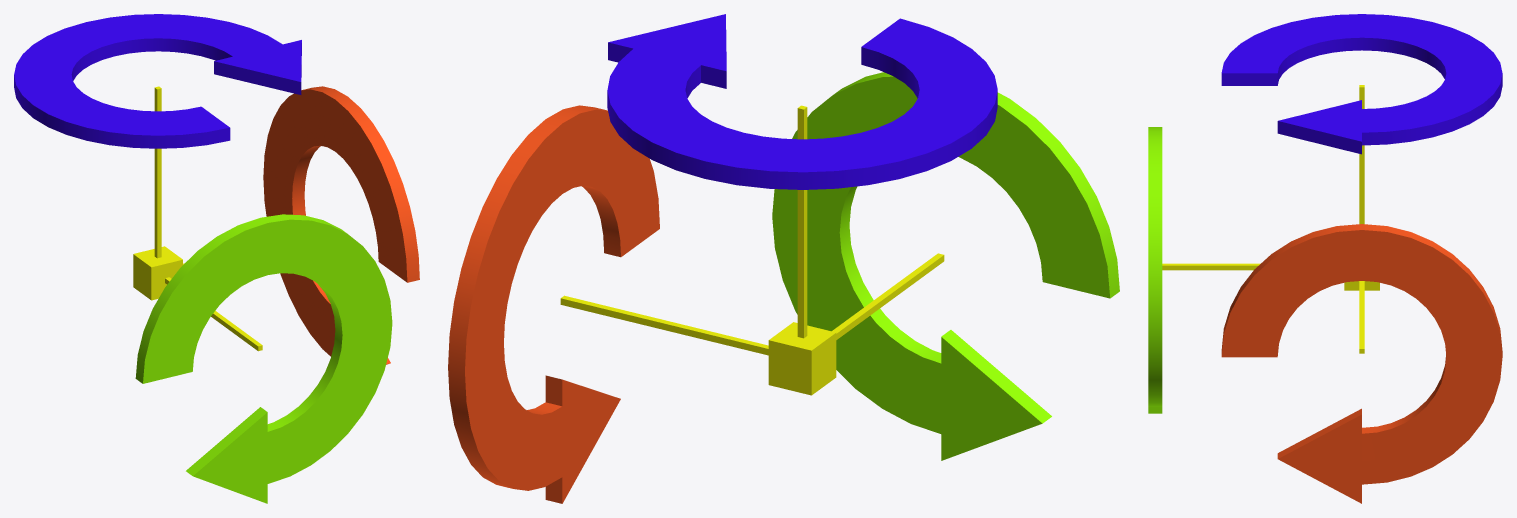
Rendered from gizmo_rotate.glb.
3 renders of one model, left to right at view 1: azimuth 30°, elevation 25°; view 2: azimuth 150°, elevation 25°; view 3: azimuth 270°, elevation 25°, orthographic. The views are drawn at different scales.
Parts seen in each view (by area): view 1: gizmo_rotate_y, gizmo_rotate_z, gizmo_rotate_x, gizmo_axes; view 2: gizmo_rotate_y, gizmo_rotate_x, gizmo_rotate_z, gizmo_axes; view 3: gizmo_rotate_x, gizmo_rotate_z, gizmo_rotate_y, gizmo_axes.
Boxes of the visible parts, bbox=[...] form: gizmo_rotate_y: bbox=[135, 214, 392, 503]; gizmo_rotate_z: bbox=[14, 14, 301, 148]; gizmo_rotate_x: bbox=[263, 86, 419, 364]; gizmo_axes: bbox=[133, 86, 262, 351]; gizmo_rotate_y: bbox=[772, 72, 1119, 460]; gizmo_rotate_x: bbox=[448, 105, 659, 503]; gizmo_rotate_z: bbox=[607, 14, 997, 189]; gizmo_axes: bbox=[560, 105, 944, 395]; gizmo_rotate_x: bbox=[1221, 224, 1502, 503]; gizmo_rotate_z: bbox=[1221, 14, 1502, 154]; gizmo_rotate_y: bbox=[1148, 127, 1162, 413]; gizmo_axes: bbox=[1162, 85, 1379, 353].
Bounding box in the file's own units: 0.288 × 0.3054 × 0.288.
